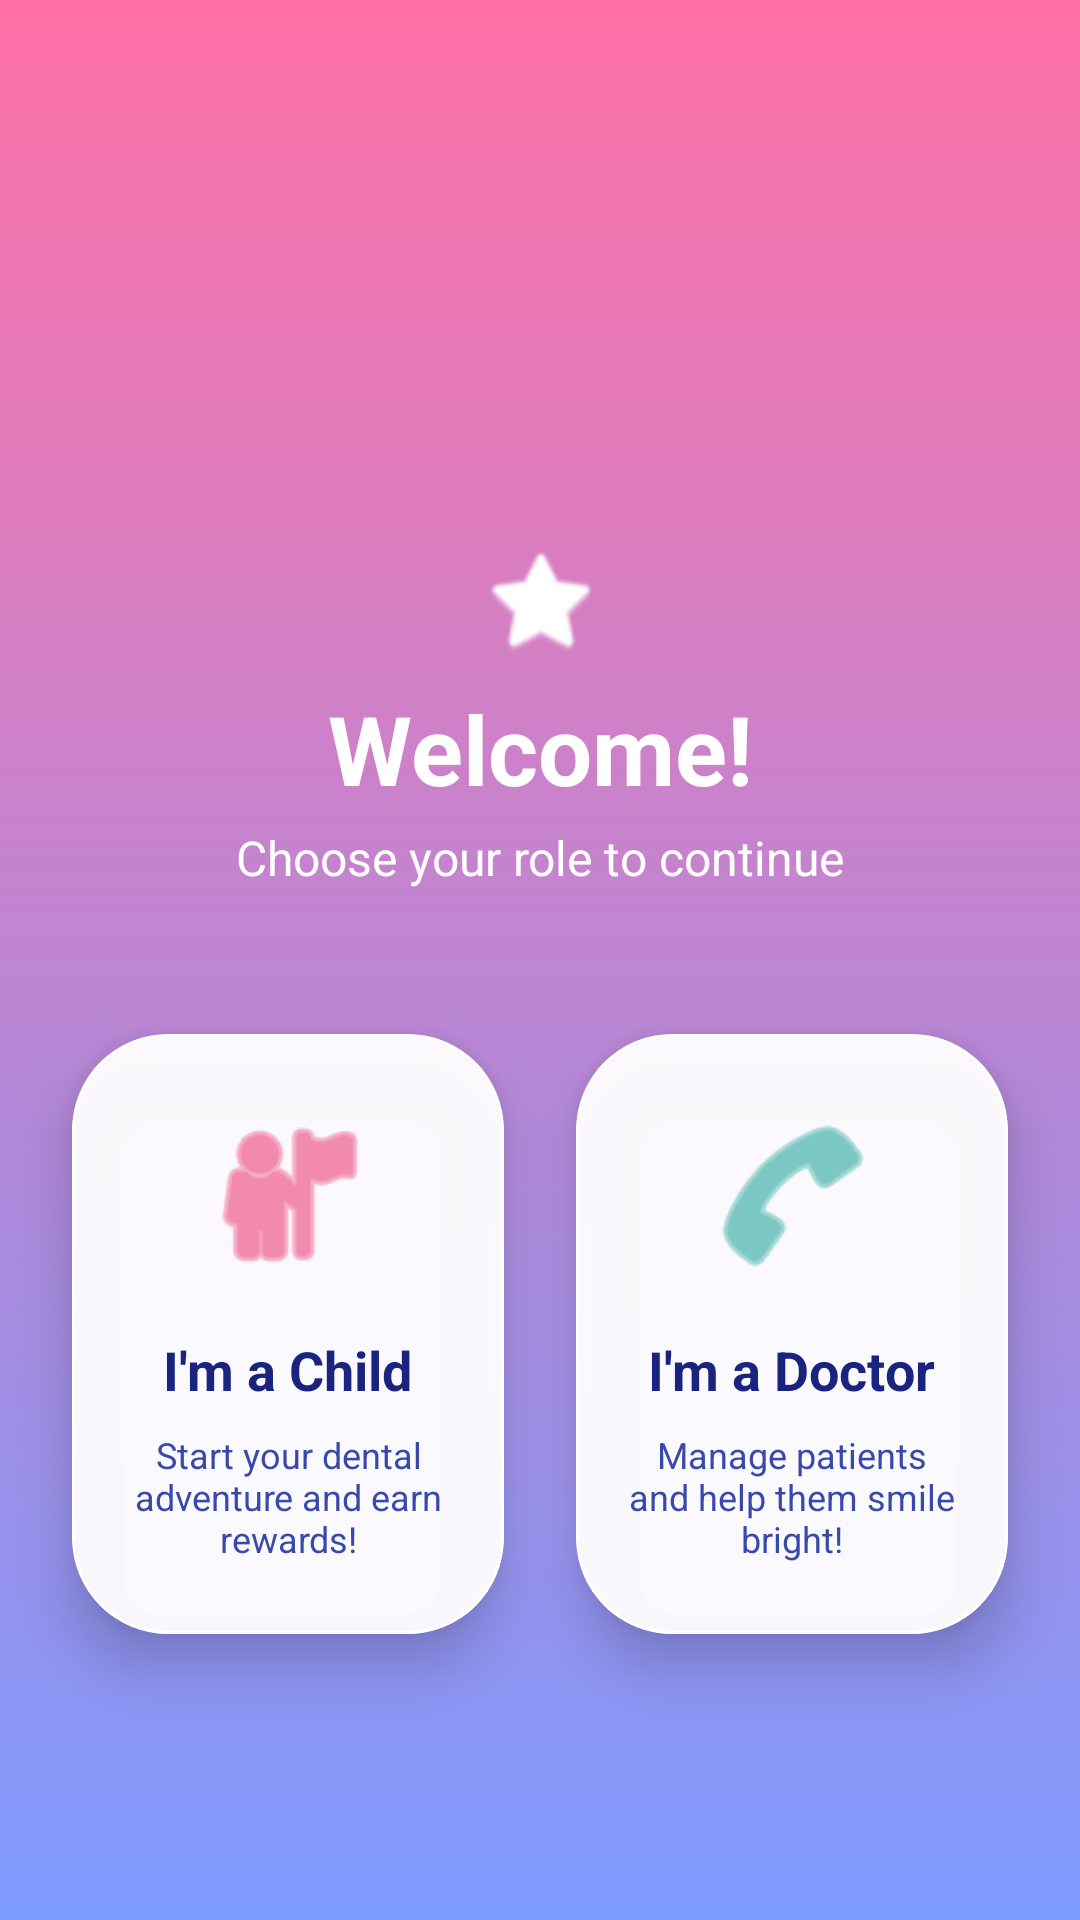

Icons on this 1080*1920 Android screen, each with the point to tap as point (x, y):
call: point (792, 1196)
